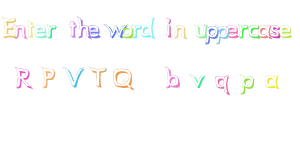E: (1, 15, 18, 40)
P: (40, 66, 56, 89)
Q: (111, 67, 135, 89)
R: (13, 63, 33, 90)
T: (88, 65, 108, 89)
V: (62, 66, 85, 88)
a: (263, 73, 281, 90), (257, 22, 271, 41)
b: (162, 64, 181, 89)
c: (247, 21, 260, 40)
d: (140, 16, 157, 39)
e: (225, 21, 239, 40), (279, 22, 293, 39), (88, 23, 101, 40), (34, 24, 47, 39)
h: (77, 14, 91, 40)
i: (164, 15, 174, 39)
n: (172, 23, 187, 40), (13, 23, 27, 39)
o: (120, 24, 134, 39)
p: (239, 73, 254, 97), (215, 22, 229, 47), (205, 23, 219, 46)
q: (214, 74, 232, 96)
r: (237, 21, 248, 39), (131, 23, 142, 40), (46, 23, 57, 38)
s: (268, 21, 281, 42)
t: (66, 20, 78, 39), (26, 19, 36, 38)
u: (193, 22, 207, 38)
v: (188, 73, 208, 88)
w: (103, 22, 125, 40)
